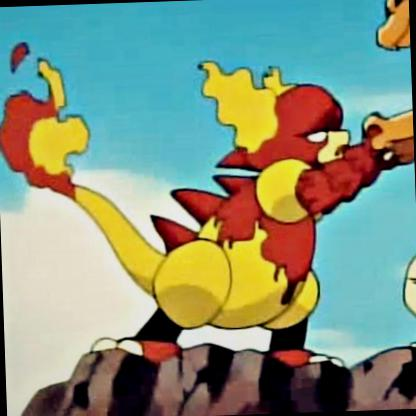Magmar: (21, 3, 415, 415)
